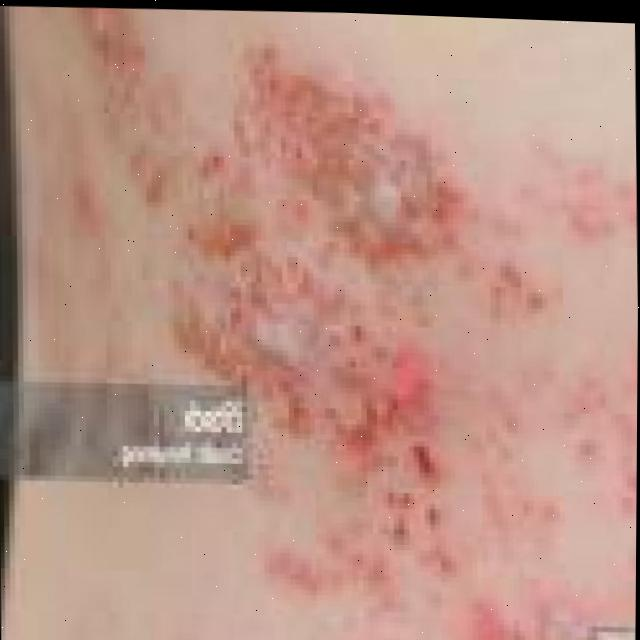Shingles: (65, 3, 640, 640)
